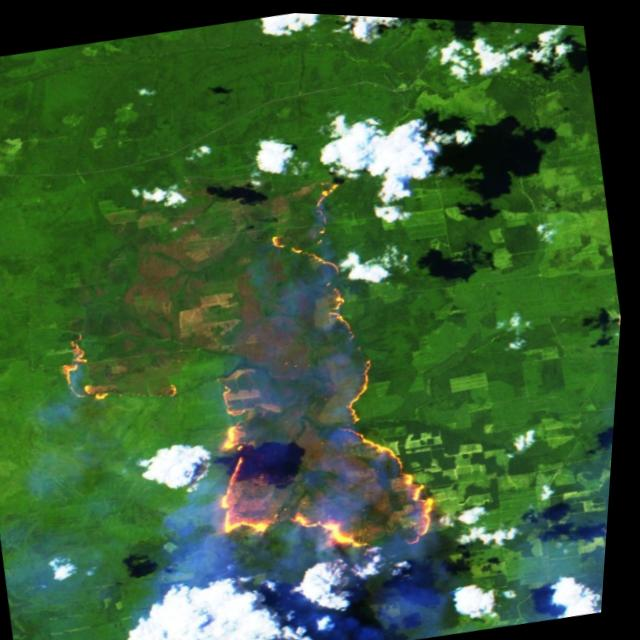fire: (159, 159, 478, 582), (55, 312, 195, 418)
